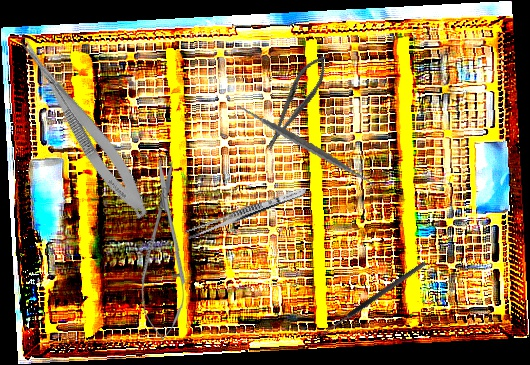Dressing Forceps: (184, 184, 308, 242)
Hook Surgical: (315, 260, 431, 346)
Micro Scissor: (3, 27, 159, 224), (138, 160, 190, 341)
Needle Holder: (255, 48, 336, 157)
Spatula Surgical: (237, 75, 377, 217)
